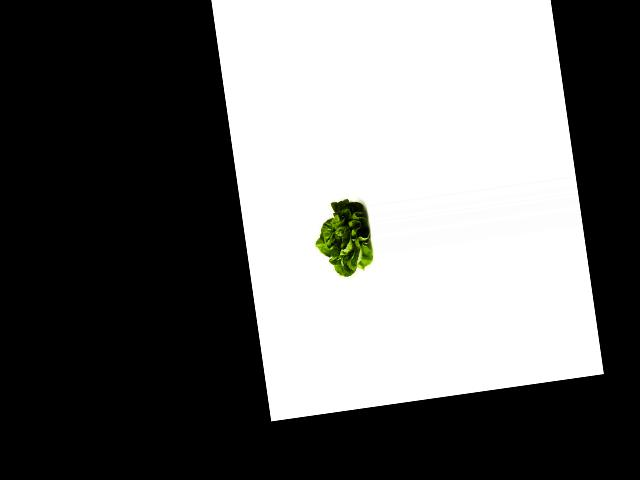lettuce: (310, 195, 376, 282)
